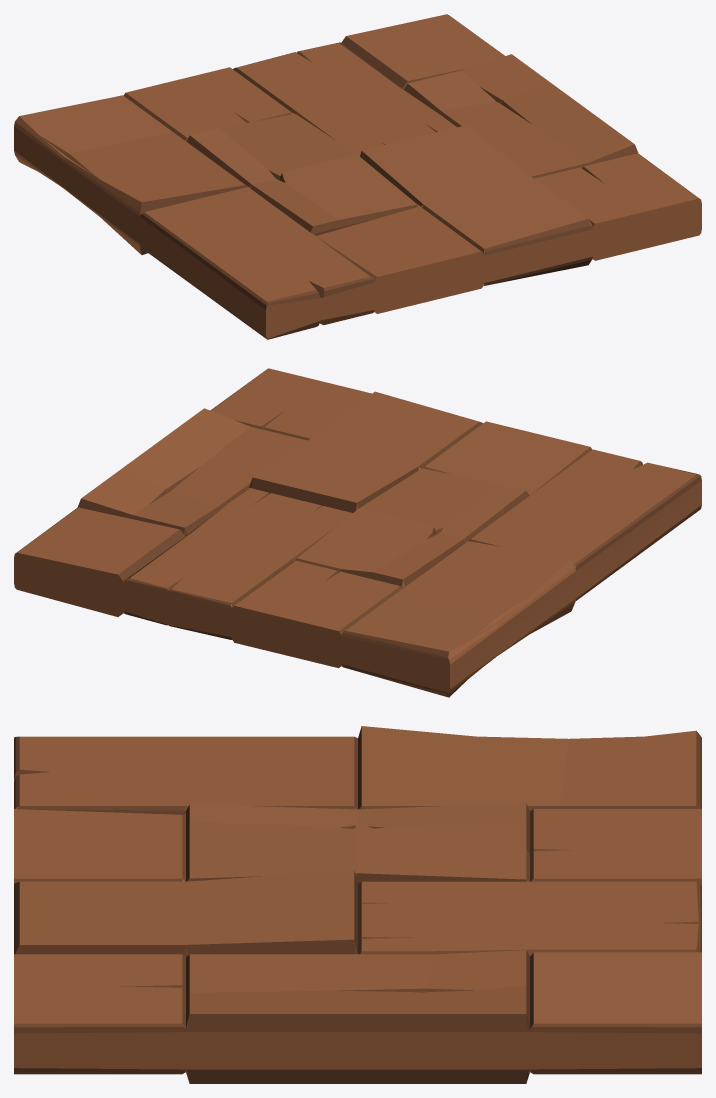
Rendered from Floor_Wood_1_2x2.fbx.
3 renders of one model, top to bottom at view 1: azimuth 30°, elevation 25°; view 2: azimuth 150°, elevation 25°; view 3: azimuth 270°, elevation 25°, orthographic. The views are drawn at different scales.
Parts seen in each view (by area): view 1: Floor_Wood.017; view 2: Floor_Wood.017; view 3: Floor_Wood.017.
Boxes of the visible parts, x1,y1,x2,y2 form: Floor_Wood.017: (14,14,701,339); Floor_Wood.017: (14,368,701,697); Floor_Wood.017: (14,726,701,1083).
Bounding box in the file's own units: 200 × 23.75 × 200.
